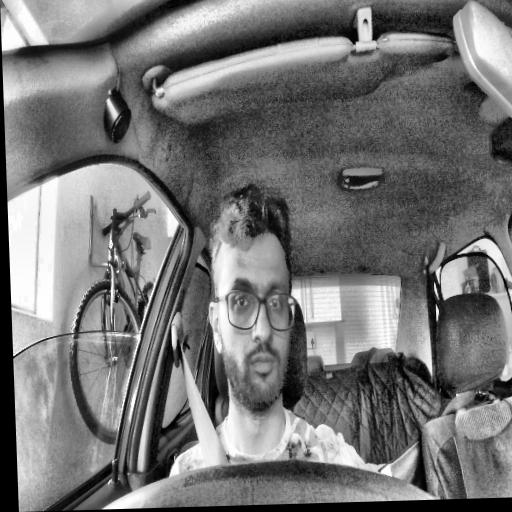awake: (204, 181, 300, 412)
